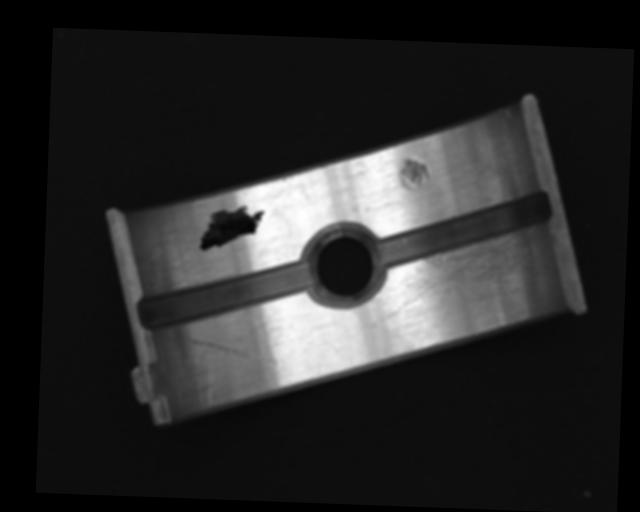blot: (199, 203, 266, 255)
bruise: (397, 157, 431, 193)
gap: (376, 187, 552, 274), (139, 255, 314, 336)
hole: (303, 227, 384, 306)
nick: (185, 336, 279, 367)
scratch: (387, 228, 555, 325)
